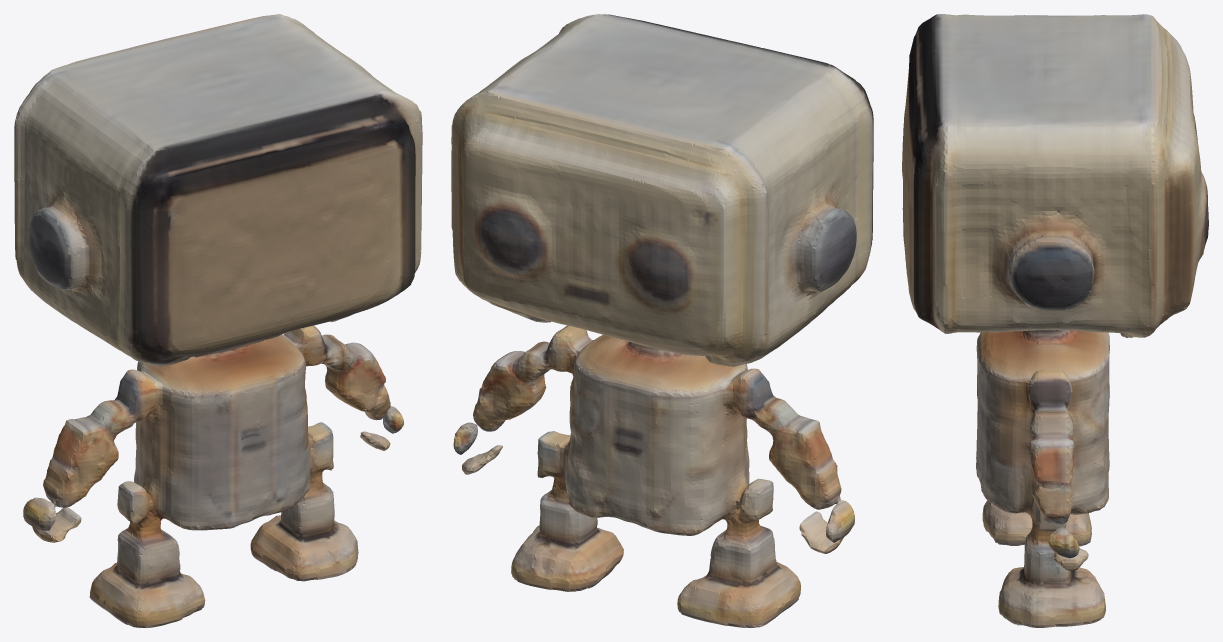
The model's file is full.glb.
3 views of the same model, side by side, from view 1: azimuth 30°, elevation 25°; view 2: azimuth 150°, elevation 25°; view 3: azimuth 270°, elevation 25° (orthographic). The views are drawn at different scales.
Parts seen in each view (by area): view 1: world; view 2: world; view 3: world.
Boxes of the visible parts, box(x1,y1,x2,y2) form: world: box(14, 14, 422, 627); world: box(451, 14, 873, 627); world: box(902, 14, 1208, 627).
Bounding box in the file's own units: 1.57 × 2 × 1.11.
